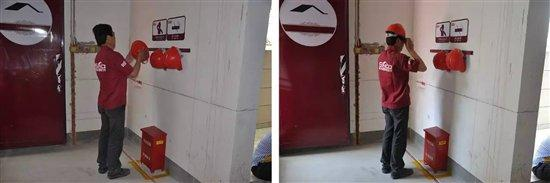helmet: (165, 46, 188, 73), (448, 45, 468, 75), (131, 40, 153, 65), (151, 47, 169, 72), (434, 50, 449, 75), (385, 23, 408, 38)
